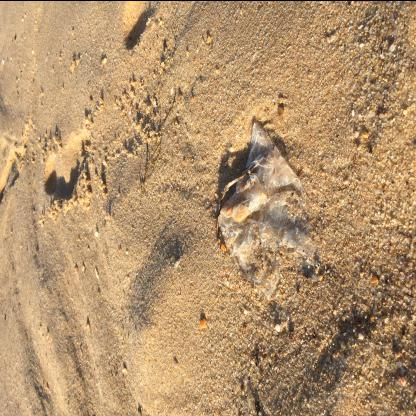plastik: (218, 120, 322, 299)
